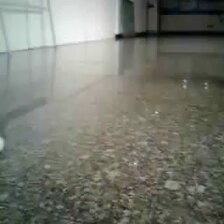tennis: (84, 154, 118, 197), (3, 69, 19, 89)
